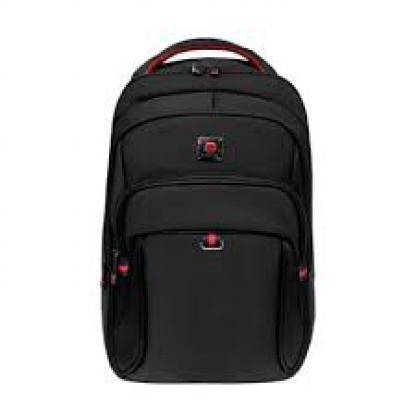morral: (72, 30, 346, 390)
